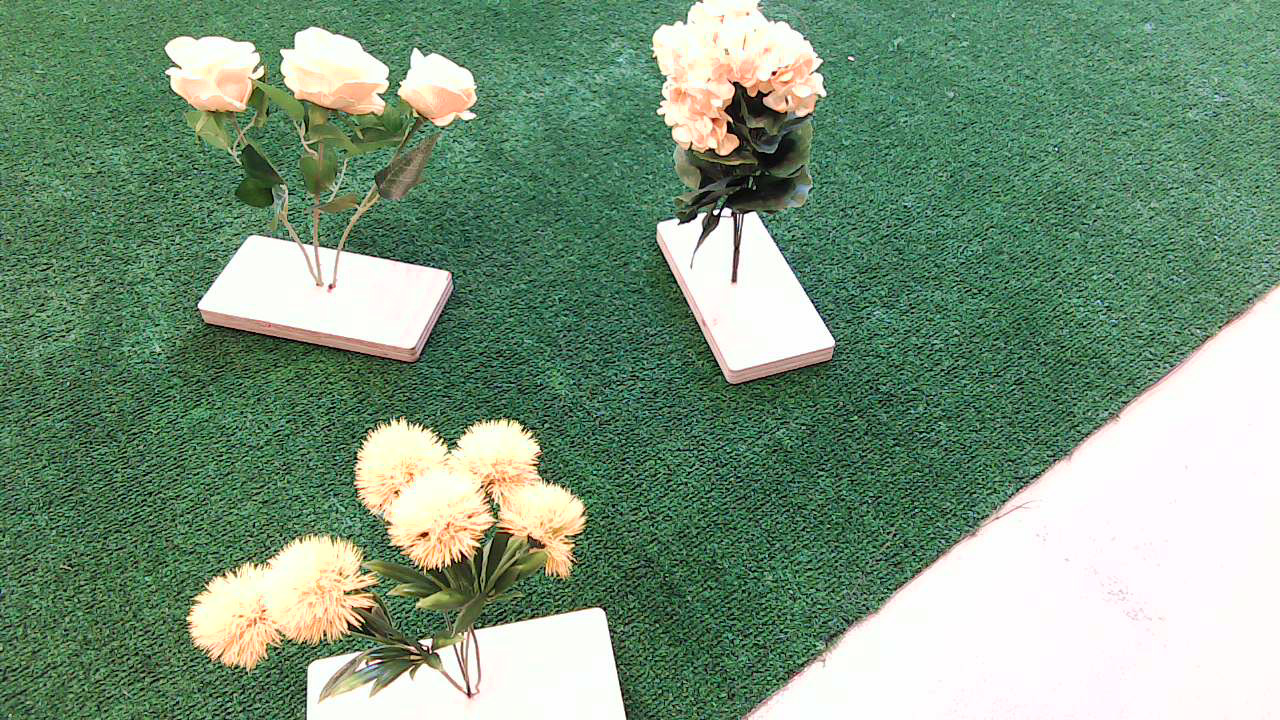dandelion: (157, 418, 646, 672)
geranium: (634, 3, 847, 281)
rose: (132, 23, 495, 220)
